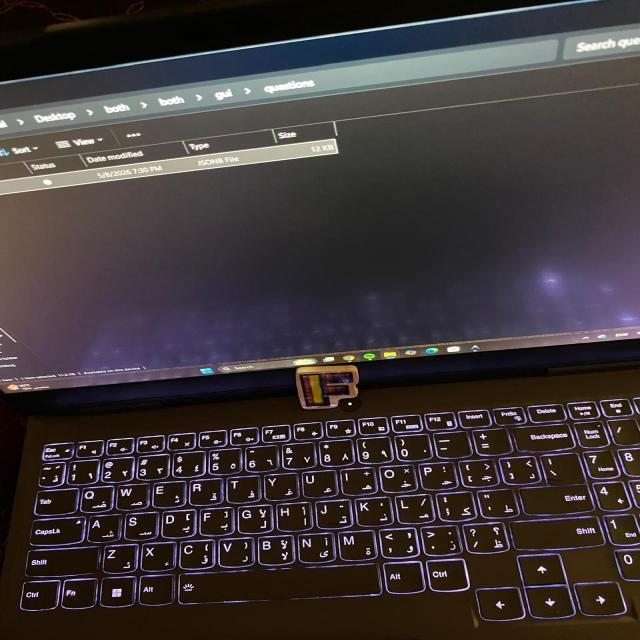F: (297, 366, 359, 409)
